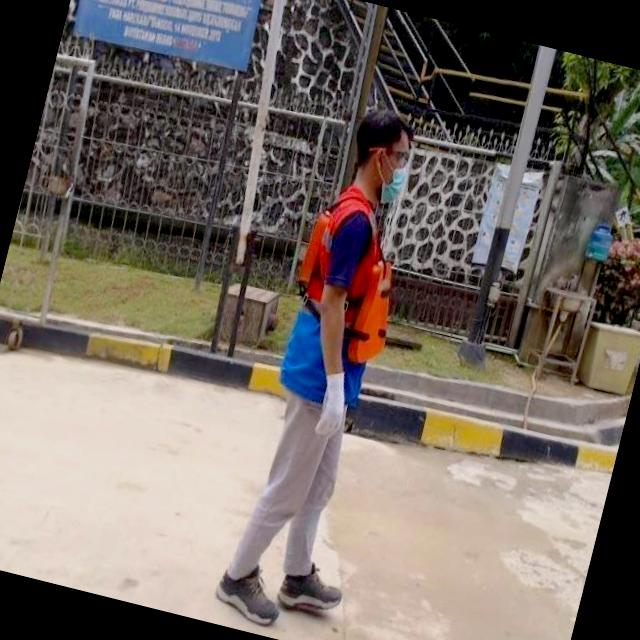vest: (272, 176, 422, 414)
